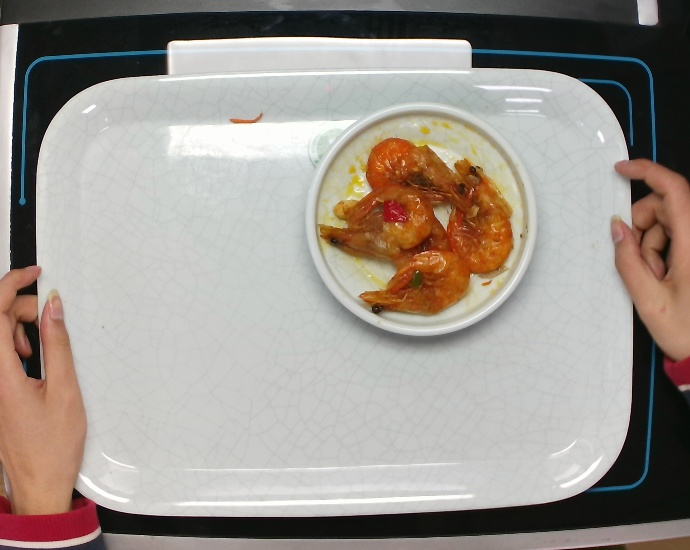JYsf-Xiao_Yuan_Pan: (296, 95, 545, 344)
